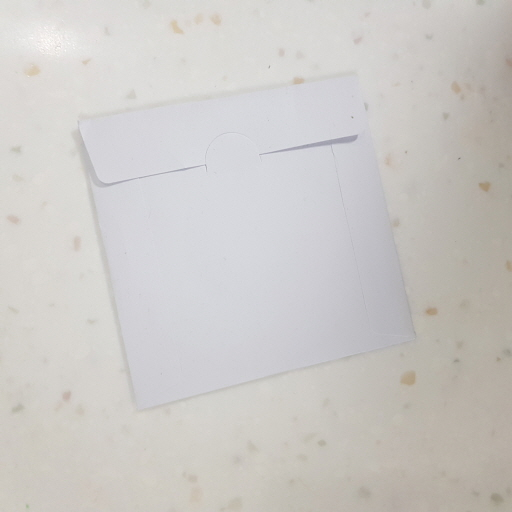Paper_2: (62, 70, 428, 416)
